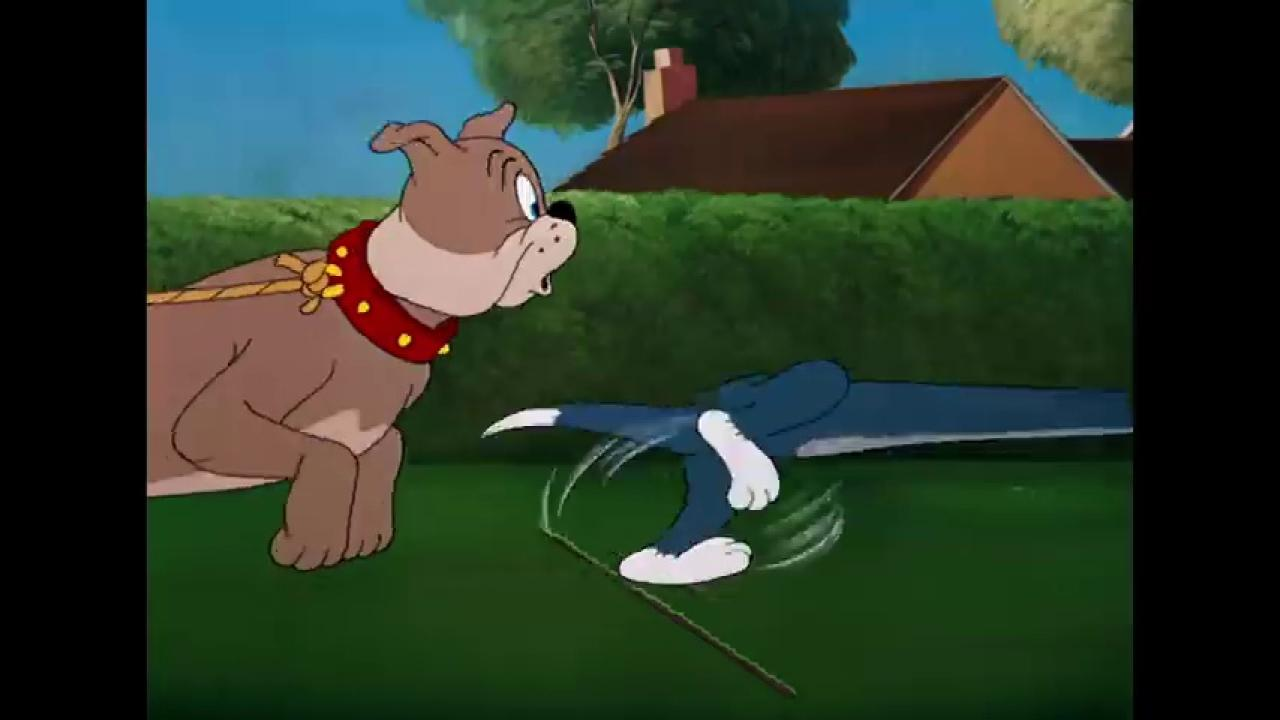Tom: (478, 350, 1134, 588)
